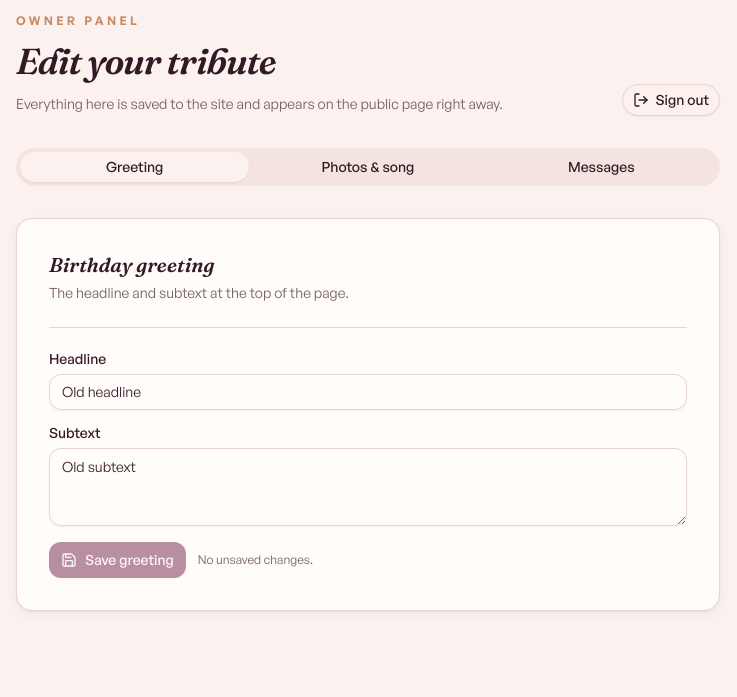
Test: owner management panel › shows the editor to the owner and saves an edited greeting
Replace the text in the field with test id "owner.greeting.headline_input" with "New headline" at (368, 392), box [49,374,687,410]
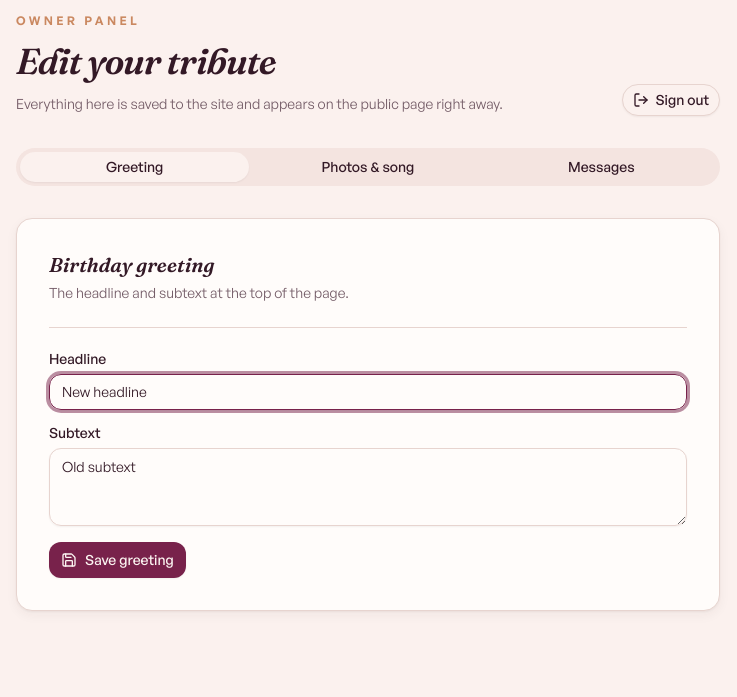
Replace the text in the text box with test id "owner.greeting.subtext_input" with "New subtext" at (368, 487), box [49,448,687,526]
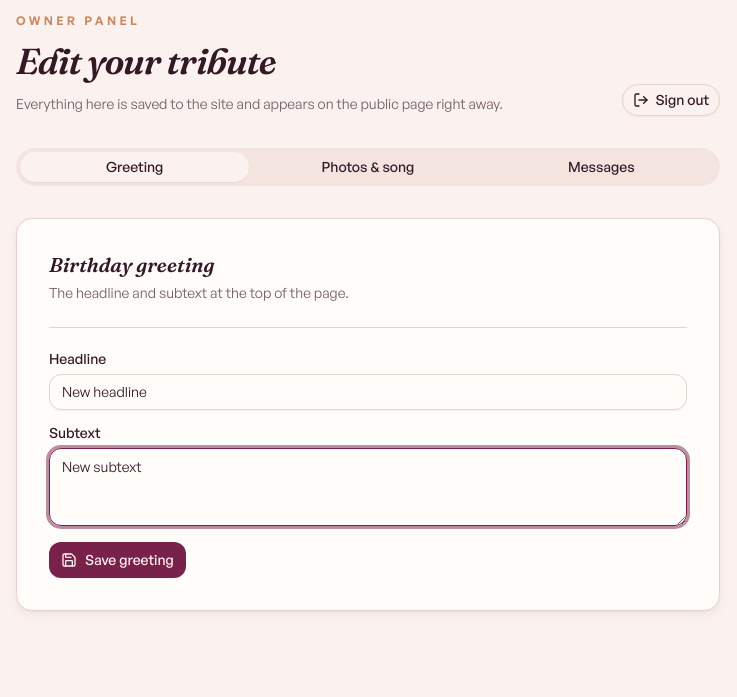
Click the button with test id "owner.greeting.save_button" at (117, 560), box [49,542,186,578]
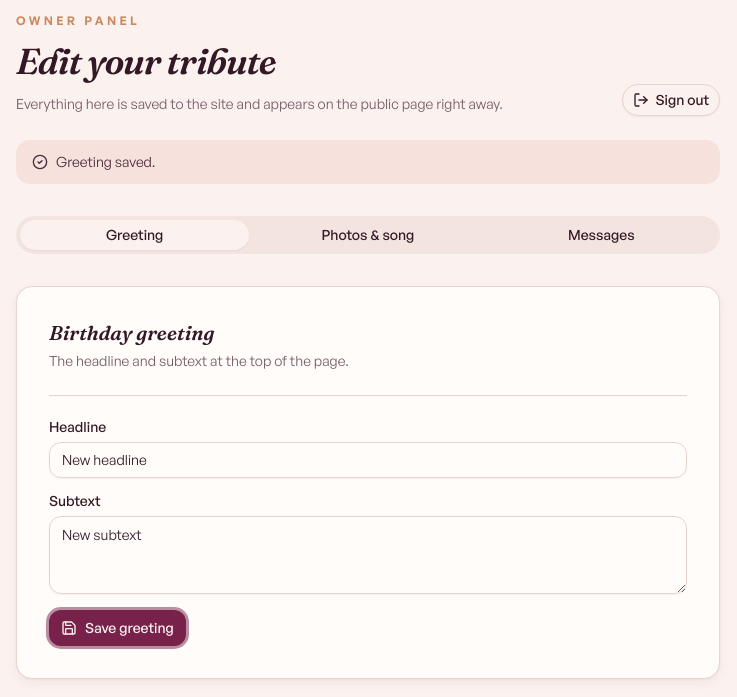
Expected: the element with test id "admin.success_state" reads "Greeting saved.", [56,153,156,170]
